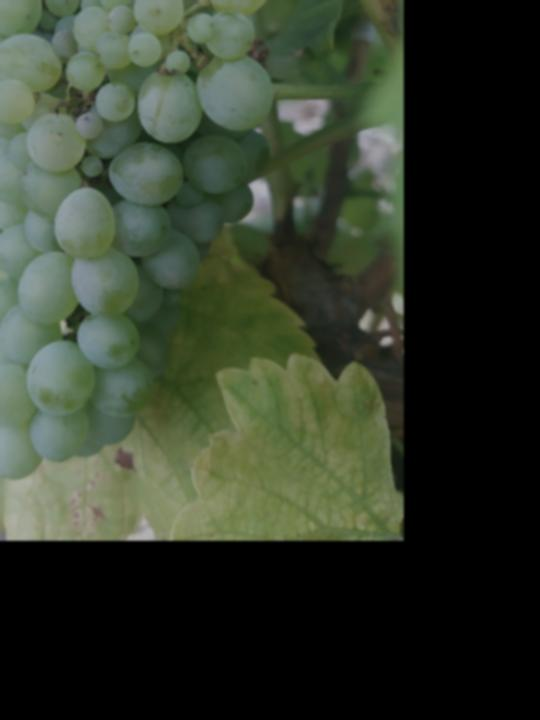grape: (0, 0, 277, 481)
